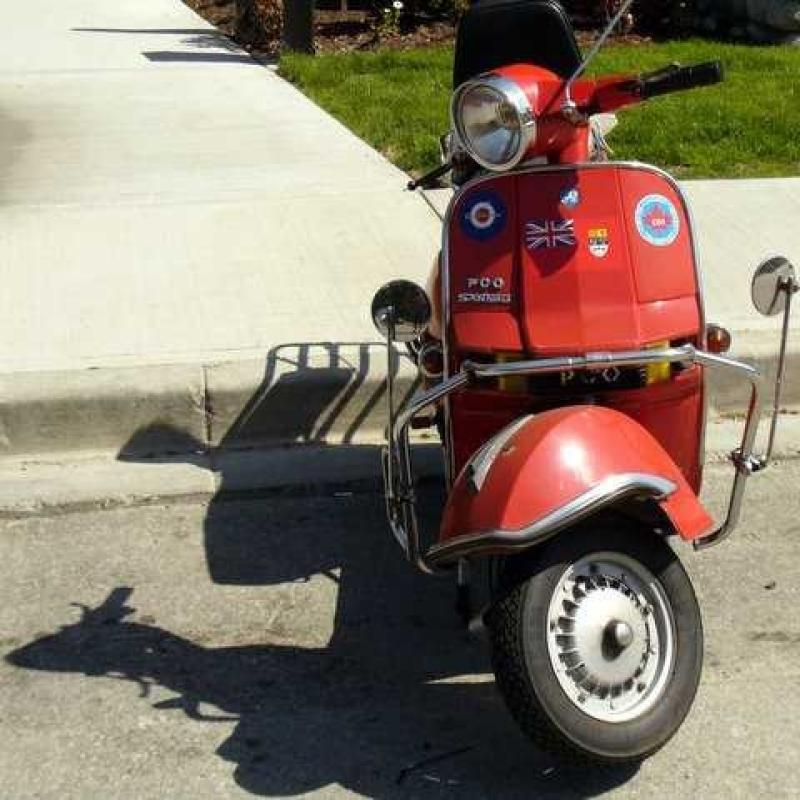bike: (387, 62, 800, 800)
